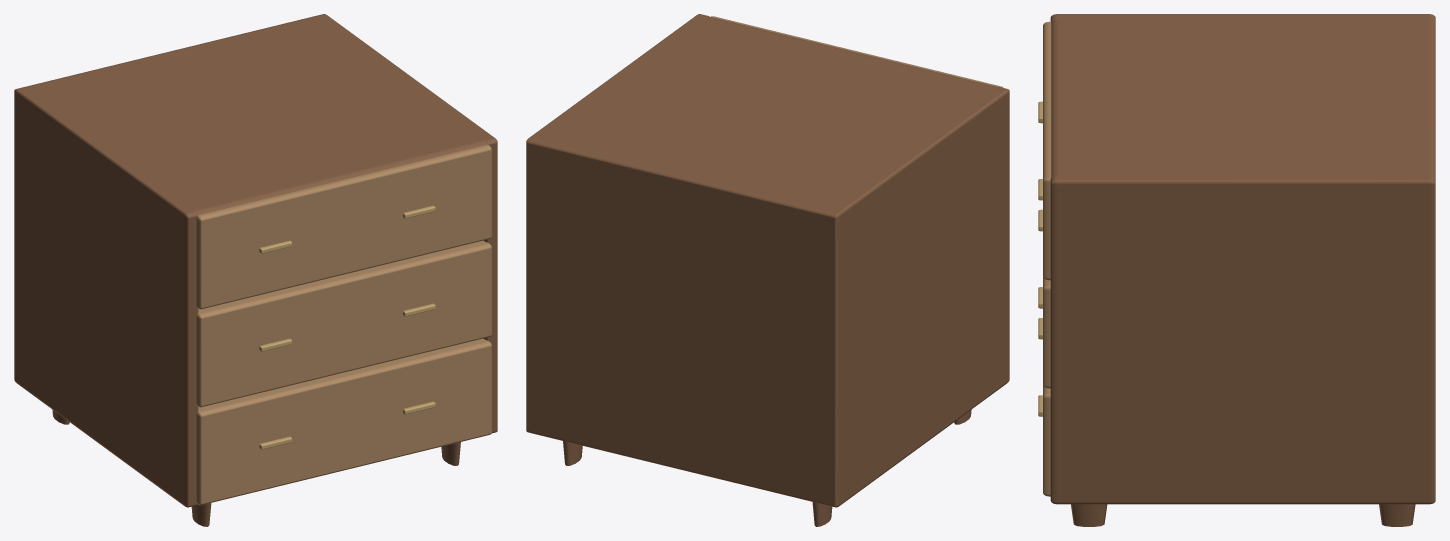
Rendered from cabinet-3-1.glb.
3 renders of one model, left to right at view 1: azimuth 30°, elevation 25°; view 2: azimuth 150°, elevation 25°; view 3: azimuth 270°, elevation 25°, orthographic. The views are drawn at different scales.
Visible parts, largest first — view 1: part, upholstery (×2); view 2: part, upholstery; view 3: part, upholstery (×2).
Boxes of the visible parts, x1=… form: part: x1=14, y1=14, x2=497, y2=526; upholstery (×2): x1=196, y1=144, x2=491, y2=505; part: x1=526, y1=14, x2=1009, y2=526; upholstery: x1=710, y1=16, x2=1003, y2=87; part: x1=1050, y1=14, x2=1435, y2=526; upholstery (×2): x1=1038, y1=21, x2=1051, y2=496.
Size of the model in its own units: 1 by 1 by 1.
